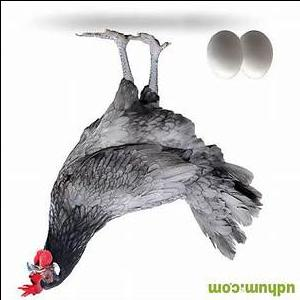hen: (16, 28, 264, 298)
